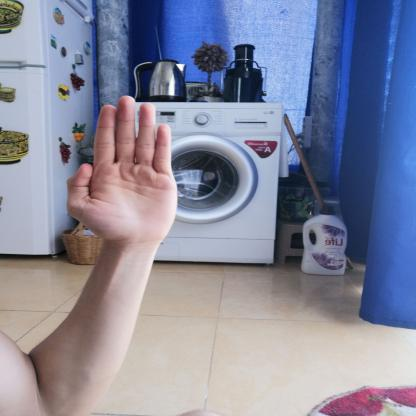SEEN: (56, 88, 184, 250)
